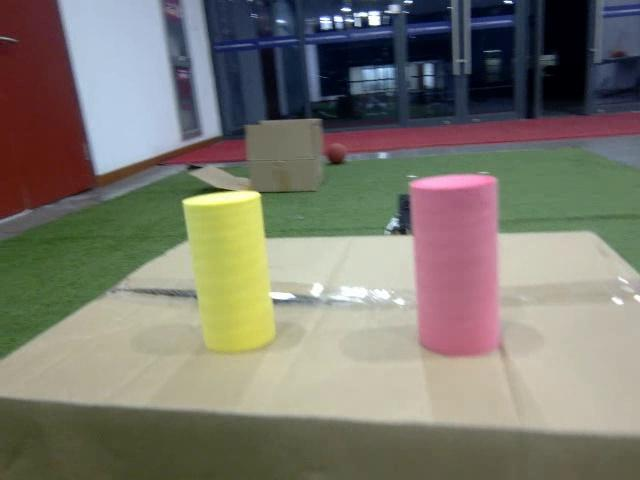red_cylinder: (401, 172, 506, 357)
yellow_cylinder: (180, 191, 282, 354)
